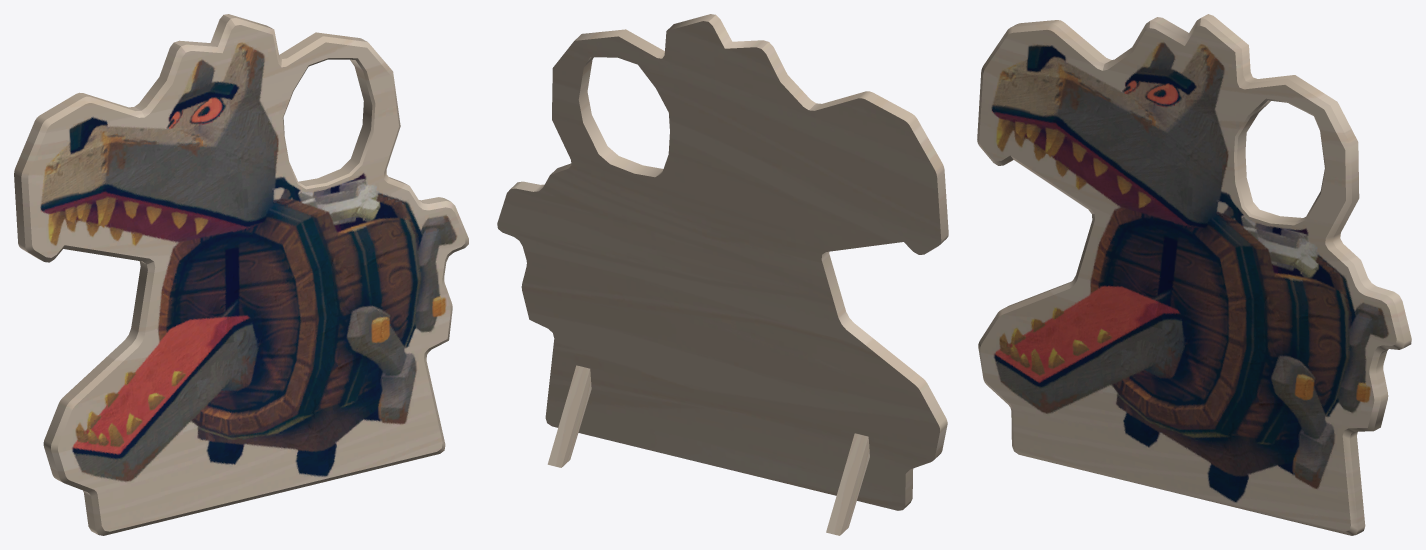
The model's file is wolf cutout.glb.
The picture shows the model from 3 angles, left to right: view 1: azimuth 30°, elevation 25°; view 2: azimuth 150°, elevation 25°; view 3: azimuth 330°, elevation 25°; orthographic projection. The views are drawn at different scales.
Parts seen in each view (by area): view 1: Quest_Dracula1_Wolf_Standee; view 2: Quest_Dracula1_Wolf_Standee; view 3: Quest_Dracula1_Wolf_Standee.
Boxes of the visible parts, bbox=[...] form: Quest_Dracula1_Wolf_Standee: bbox=[14, 14, 468, 535]; Quest_Dracula1_Wolf_Standee: bbox=[497, 14, 948, 535]; Quest_Dracula1_Wolf_Standee: bbox=[977, 14, 1411, 535].
Bounding box in the file's own units: 1.71 × 1.74 × 0.284.
Materials: 1 (1 with a texture image).
